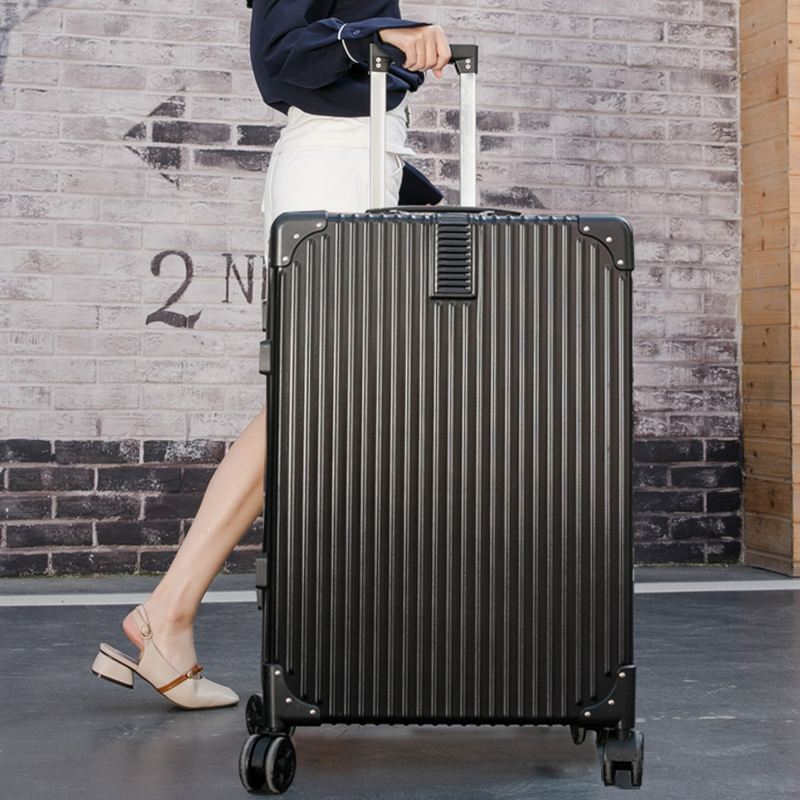box: (261, 210, 638, 728)
wheel: (239, 734, 297, 795), (600, 731, 646, 789)
